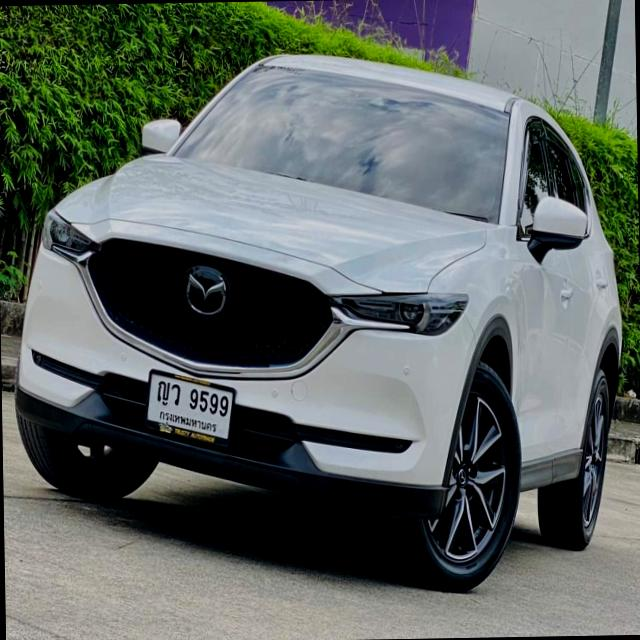license_plate: (140, 367, 238, 454)
